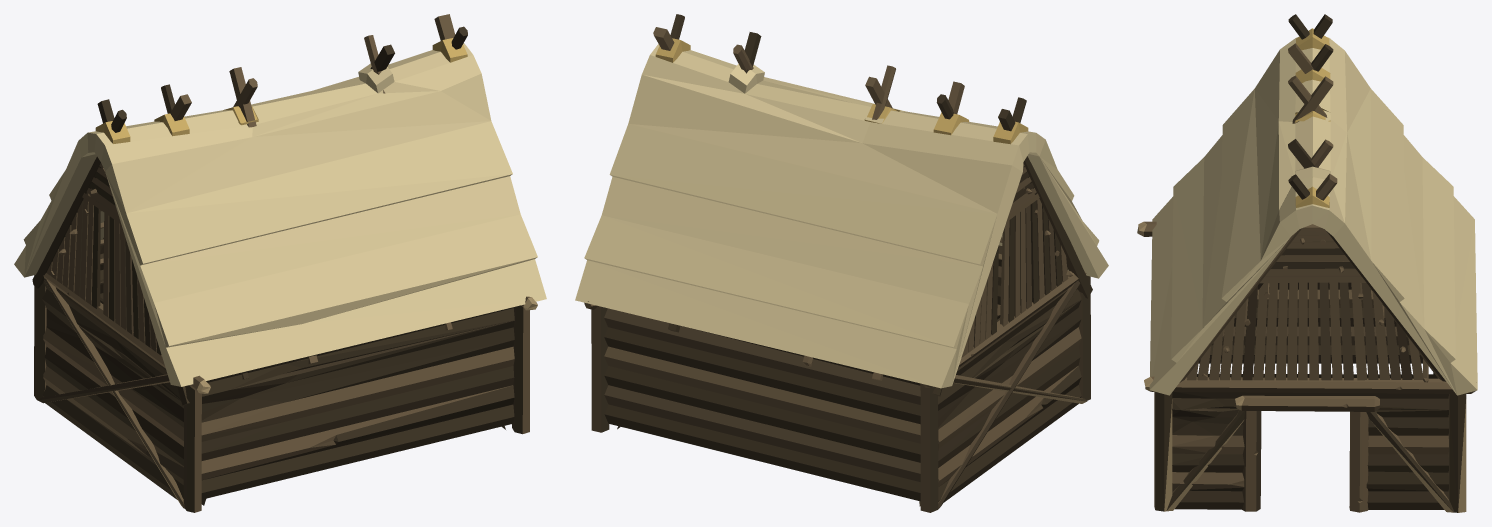
Rendered from EA03_Village_OutBuilding_Cubby_01d.fbx.
The picture shows the model from 3 angles, left to right: view 1: azimuth 30°, elevation 25°; view 2: azimuth 150°, elevation 25°; view 3: azimuth 270°, elevation 25°; orthographic projection. The views are drawn at different scales.
Visible parts, largest first — view 1: EA03_Village_OutBuilding_Cubby_01d_LOD0; view 2: EA03_Village_OutBuilding_Cubby_01d_LOD0; view 3: EA03_Village_OutBuilding_Cubby_01d_LOD0.
Boxes of the visible parts, bbox=[...] form: EA03_Village_OutBuilding_Cubby_01d_LOD0: bbox=[14, 14, 546, 512]; EA03_Village_OutBuilding_Cubby_01d_LOD0: bbox=[575, 14, 1108, 512]; EA03_Village_OutBuilding_Cubby_01d_LOD0: bbox=[1137, 14, 1477, 512].
Size of what is drawn, in the model's own units: 8.98 by 8.09 by 7.35.
